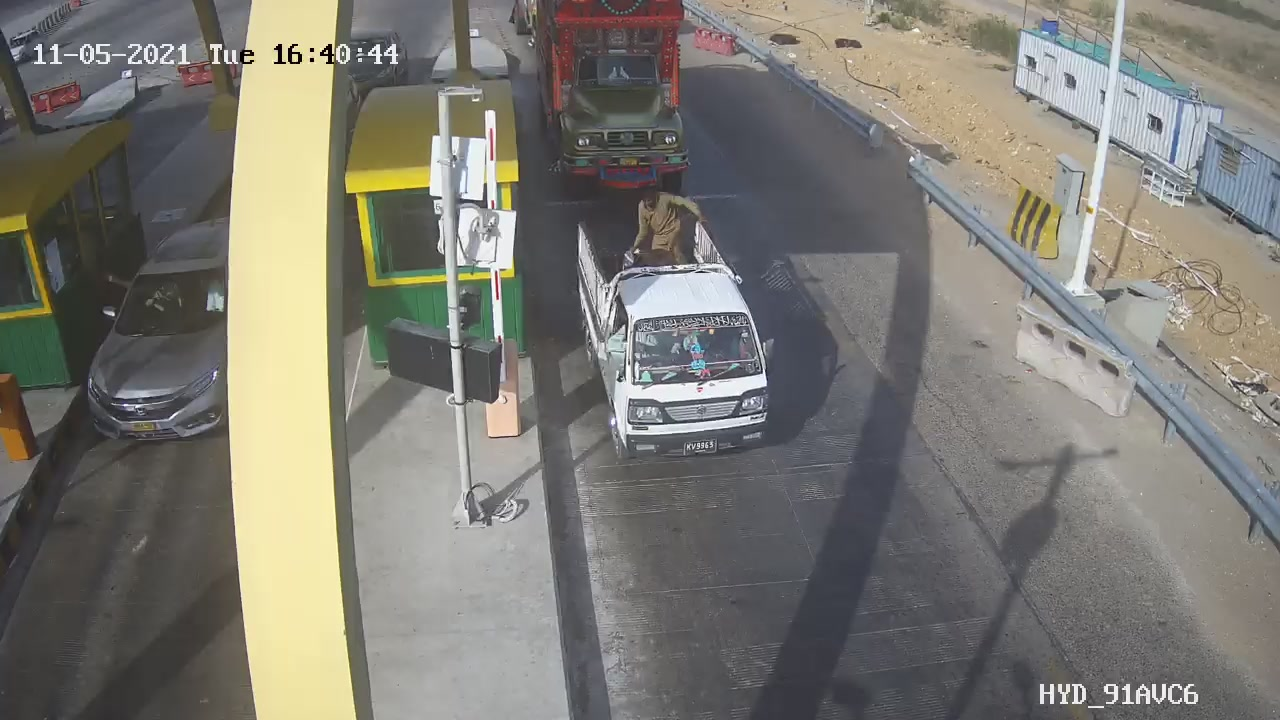F1: (555, 212, 799, 478)
